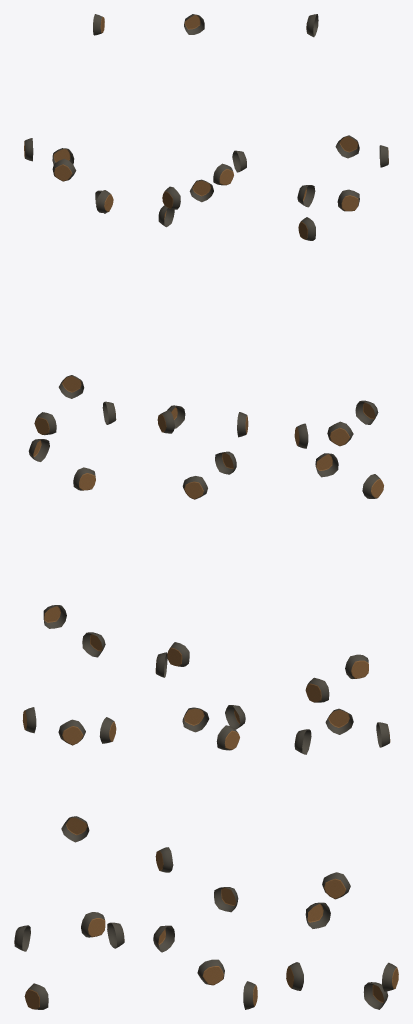
Rendered from Sitka_Pole_01_HighPruned_Recent_LOD1.fbx.
3 renders of one model, left to right at view 1: azimuth 90°, elevation 25°; view 2: azimuth 210°, elevation 25°; view 3: azimuth 270°, elevation 25°, orthographic. The views are drawn at different scales.
Visible parts, largest first — view 1: Sitka_Pole_01_HighPruned_Recent_LOD1_Scars; view 2: Sitka_Pole_01_HighPruned_Recent_LOD1_Scars; view 3: Sitka_Pole_01_HighPruned_Recent_LOD1_Scars.
Part boxes in pixels (x1=…): Sitka_Pole_01_HighPruned_Recent_LOD1_Scars: x1=14, y1=14, x2=124, y2=1009; Sitka_Pole_01_HighPruned_Recent_LOD1_Scars: x1=153, y1=14, x2=257, y2=1009; Sitka_Pole_01_HighPruned_Recent_LOD1_Scars: x1=286, y1=14, x2=398, y2=1009.
Size of what is drawn, in the model's own units: 15.23 by 166 by 16.85.
Materials: 2 (2 with a texture image).
